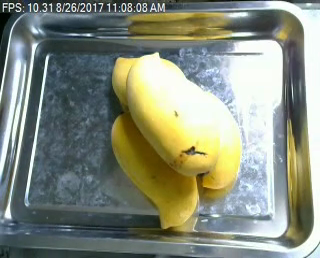Mango: (122, 53, 218, 177), (110, 114, 203, 233), (192, 86, 244, 190)
